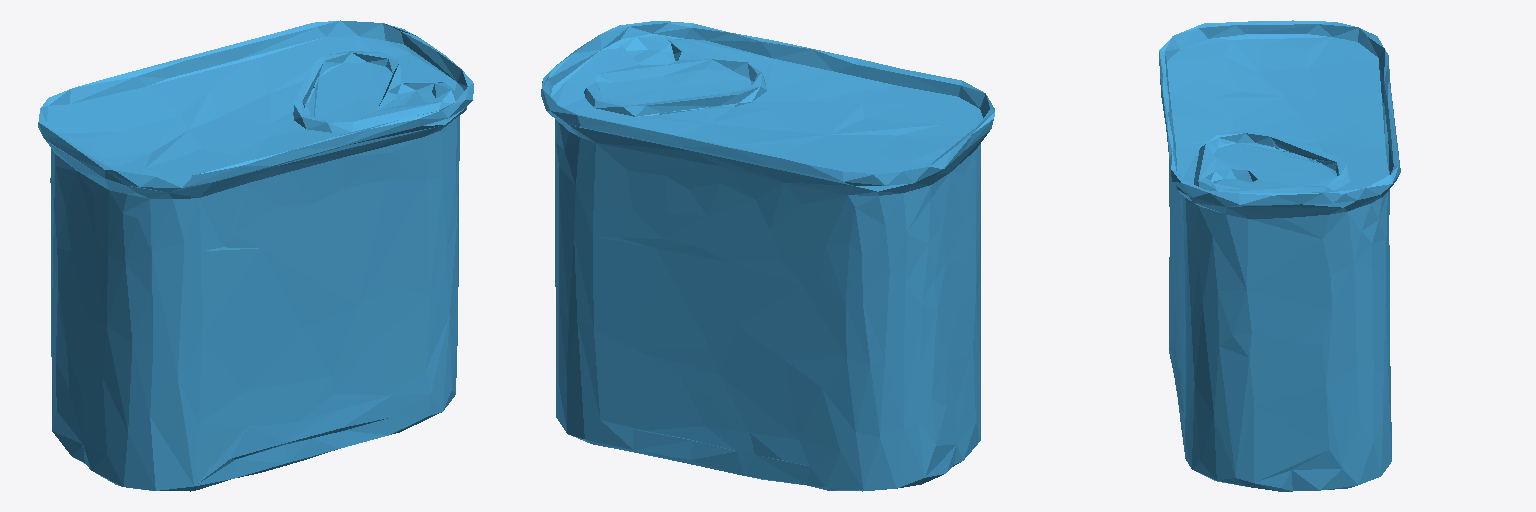
URDF robot description (potted_meat_can):
<?xml version="1.0" ?>
<robot name="potted_meat_can">
	<link name="base"/>
	<link name="body">
		<visual>
			<origin xyz = "0 0 0"/>
			<geometry>
				<mesh filename="package://objects_description/potted_meat_can/textured.obj" />
			</geometry>
		</visual>
		<collision>
			<origin xyz="0 0 0"/>
			<geometry>
				<mesh filename="package://objects_description/potted_meat_can/textured.obj" />
			</geometry>
		</collision>
		<inertial>
			<mass value="1.2"/>
			<inertia ixx="0.0" ixy="0.0" ixz="0.0" iyy="0.0" iyz="0.0" izz="0.04" />
		</inertial>
	</link>
	<joint name="joint_0" type="fixed">
		<origin rpy="0 0 0" xyz="0 0 0"/>
		<child link="body"/>
		<parent link="base"/>
	</joint>
</robot>

--- Facts derived from the render (not from the file) ---
3 views of the same robot in one strip: view 1: azimuth 30°, elevation 25°; view 2: azimuth 150°, elevation 25°; view 3: azimuth 270°, elevation 25° (orthographic).
Model potted_meat_can with 2 links and 1 joints (1 fixed), rooted at base, posed all joints at 0.
Visible links, largest first — view 1: body; view 2: body; view 3: body.
Link boxes in pixels (x1,y1,x2,y2): body: [38, 20, 473, 491]; body: [541, 21, 994, 491]; body: [1159, 20, 1400, 491].
Size in the robot's own frame: 0.1026 by 0.0596 by 0.0835 metres.
1 mesh visuals loaded from 1 distinct referenced files (1 OBJ).